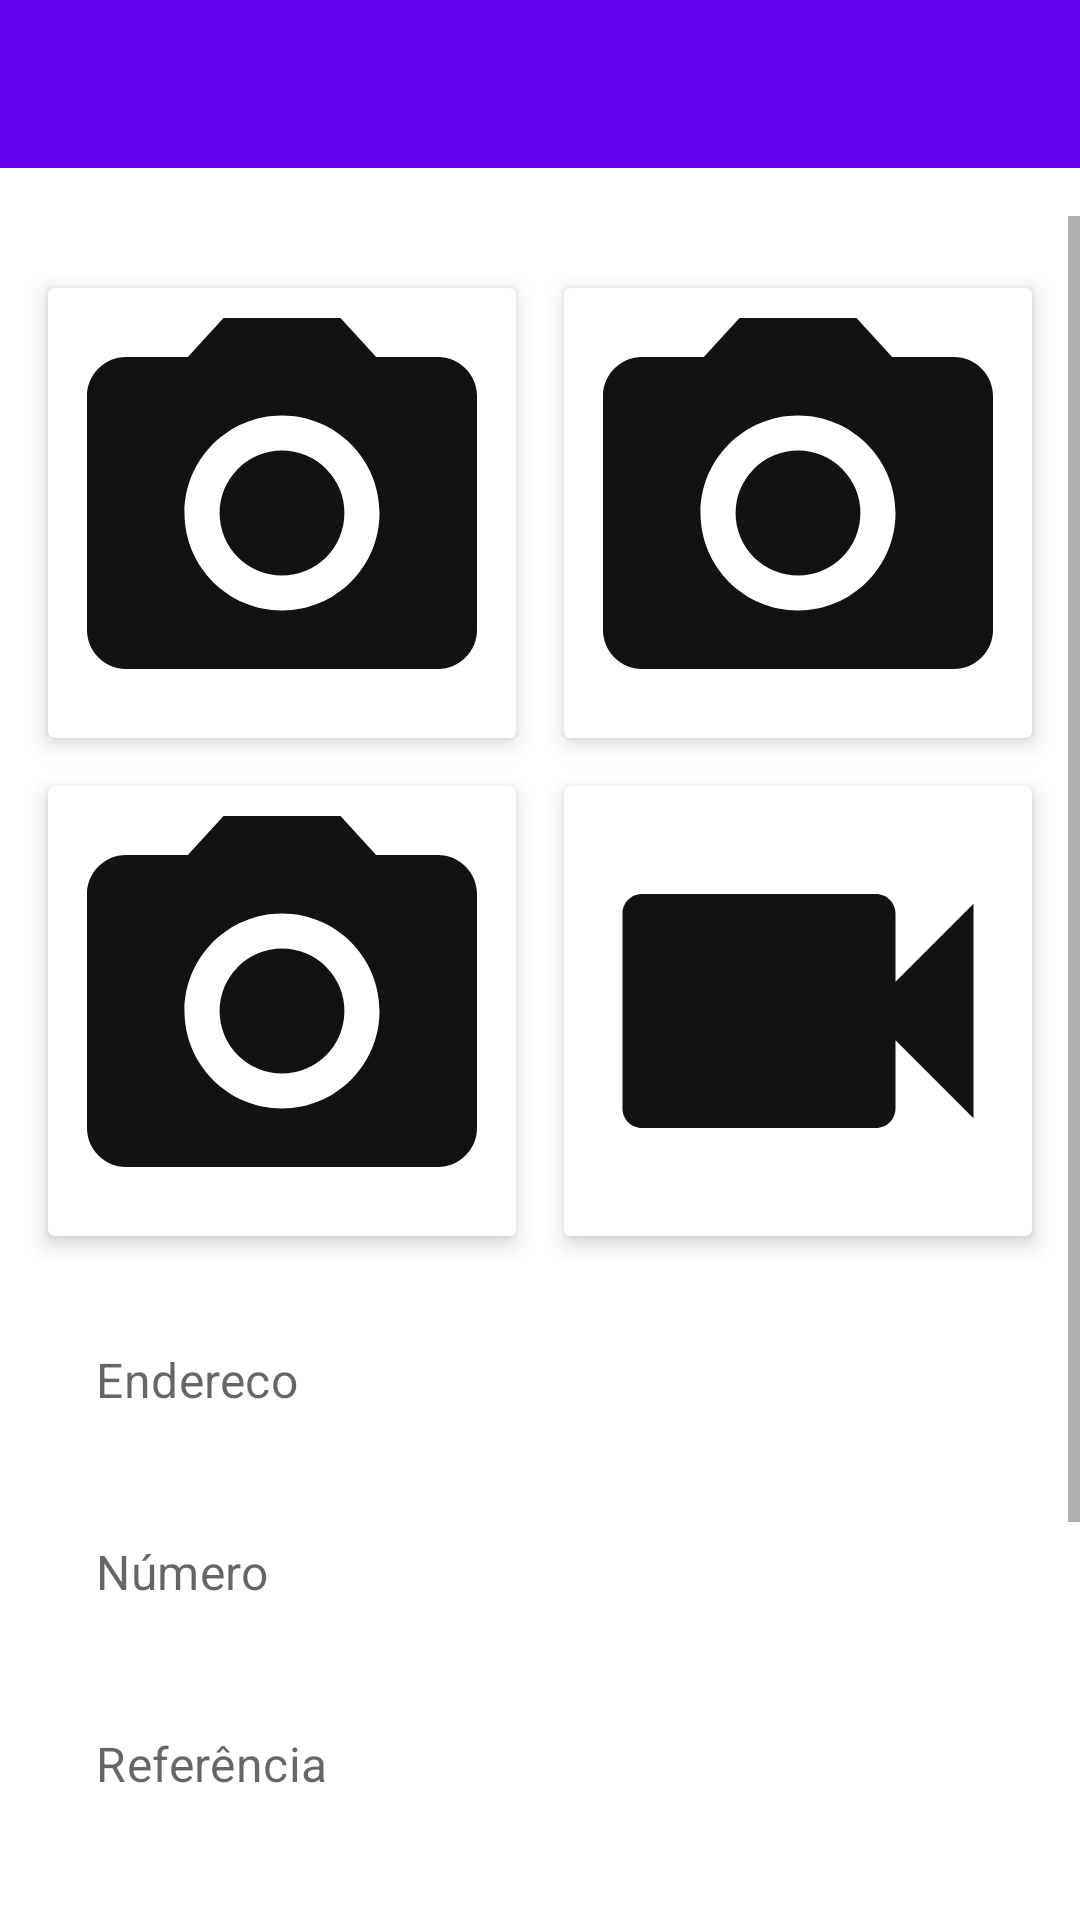

Icon click points for this 1080*1920 phone screenshot, format (x,y):
Icone video para selecionar video: (798,1011)
